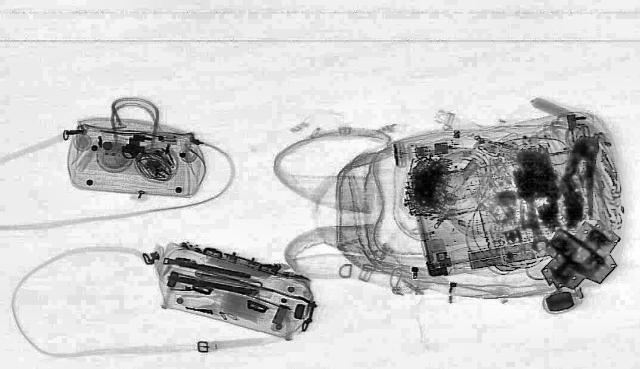Pliers: (549, 134, 609, 219)
Wrench: (516, 199, 554, 251)
